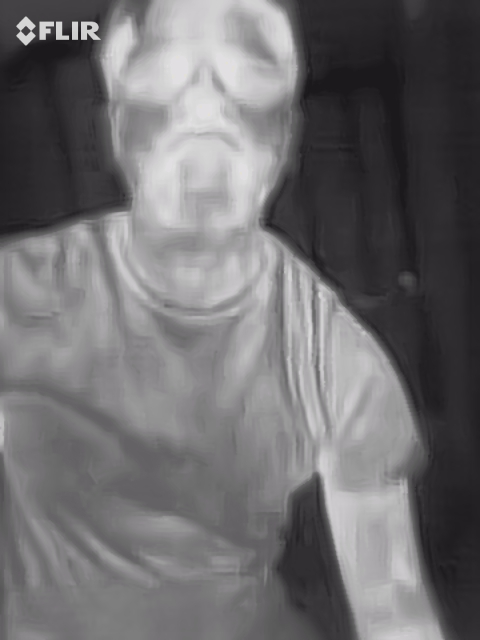head: (94, 2, 300, 228)
